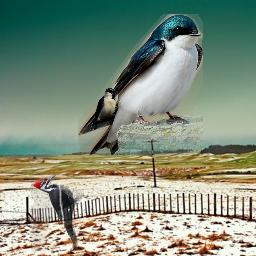Swallow: (78, 14, 203, 156), (87, 88, 116, 132)
Woodpecker: (31, 174, 84, 252)
